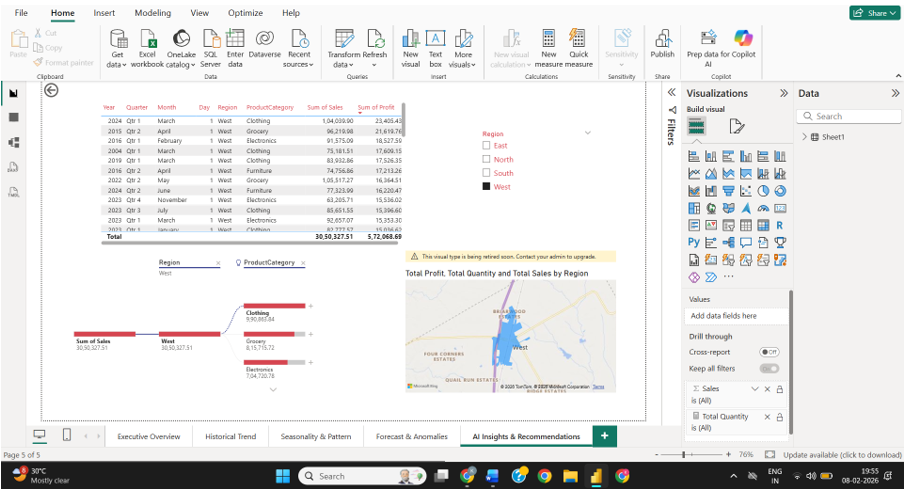

What the dashboard file says about the page in this screenshot:
{"tool":"powerbi","page":{"name":"AI Insights & Recommendations","canvas":[1280,720],"ordinal":4},"visuals":[{"type":"slicer","fields":{"Values":["Sheet1.Region"]},"box":[921.4,98.2,255.2,159.7],"z":0},{"type":"tableEx","fields":{"Values":["Sheet1.OrderDate.Variation.Date Hierarchy.Year","Sheet1.OrderDate.Variation.Date Hierarchy.Quarter","Sheet1.OrderDate.Variation.Date Hierarchy.Month","Sheet1.OrderDate.Variation.Date Hierarchy.Day","Sheet1.Region","Sheet1.ProductCategory","Sum(Sheet1.Sales)","Sum(Sheet1.Profit)"]},"box":[119.1,40.6,657.1,312.8],"z":1000},{"type":"filledMap","fields":{"Category":["Sheet1.Region"]},"box":[765.7,359.9,456.8,306.3],"z":2000},{"type":"decompositionTreeVisual","fields":{"ExplainBy":["Sheet1.Region","Sheet1.ProductCategory","Sheet1.Year","Sheet1.Month"],"Analyze":["Sum(Sheet1.Sales)"]},"box":[38,359.9,630.9,306.3],"z":3000},{"type":"actionButton","box":[0,0,100,40],"z":4000}]}

Visuals, with their boxes on the page's 1280x720 design canvas (x1, y1, x2, y2). These are canvas units, not pixel positions in the 906x489 screenshot, which may show the page scaled, cropped or inside an application window:
slicer - Sheet1.Region: pyautogui.locateOnScreen(921, 98, 1177, 258)
tableEx - Sheet1.OrderDate.Variation.Date Hierarchy.Year x Sheet1.OrderDate.Variation.Date Hierarchy.Quarter: pyautogui.locateOnScreen(119, 41, 776, 353)
filledMap - Sheet1.Region: pyautogui.locateOnScreen(766, 360, 1222, 666)
decompositionTreeVisual - Sheet1.Region x Sheet1.ProductCategory: pyautogui.locateOnScreen(38, 360, 669, 666)
actionButton: pyautogui.locateOnScreen(0, 0, 100, 40)
